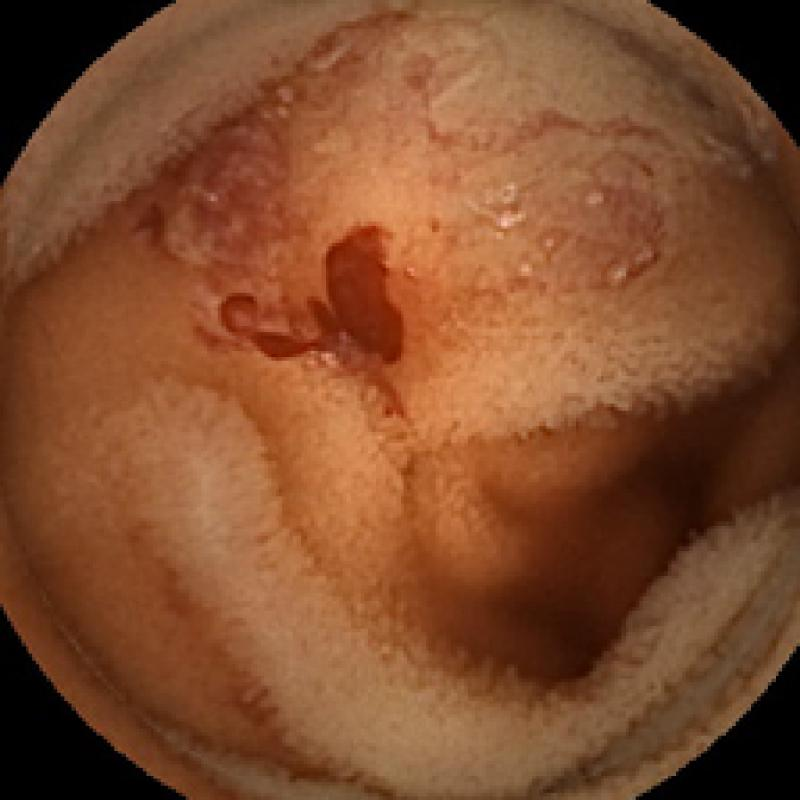bleeding: (214, 229, 411, 382)
